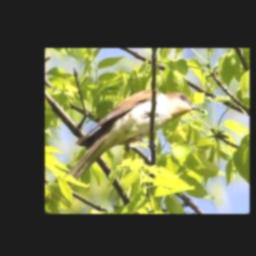Cuckoo: (62, 90, 205, 191)
